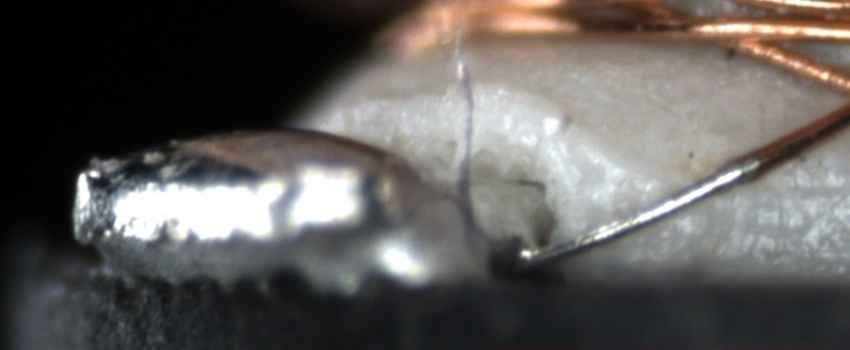DL: (768, 156, 849, 218)
TS: (530, 157, 760, 266)
